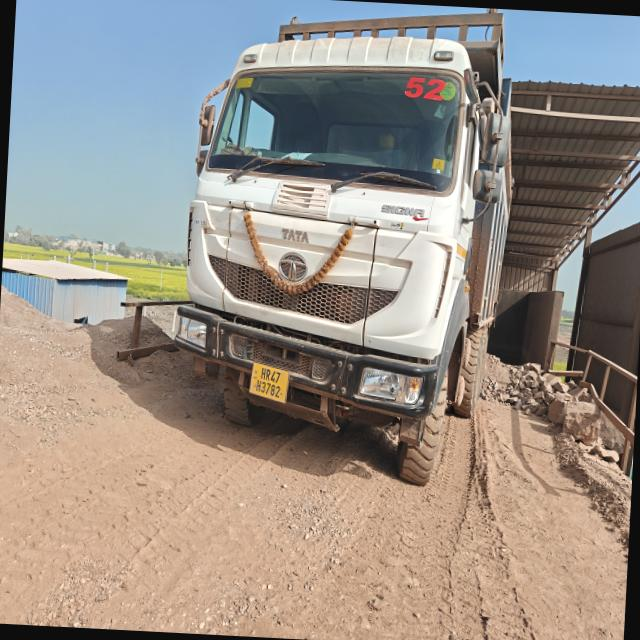license_plate: (250, 363, 289, 402)
